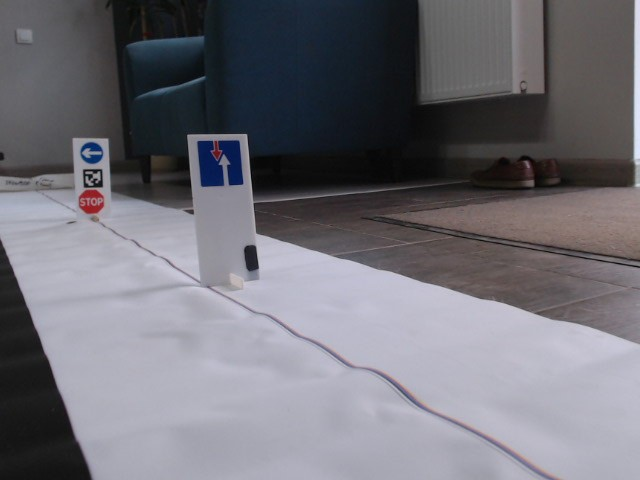Stop: (77, 189, 105, 214)
priority_movement: (197, 139, 245, 187)
